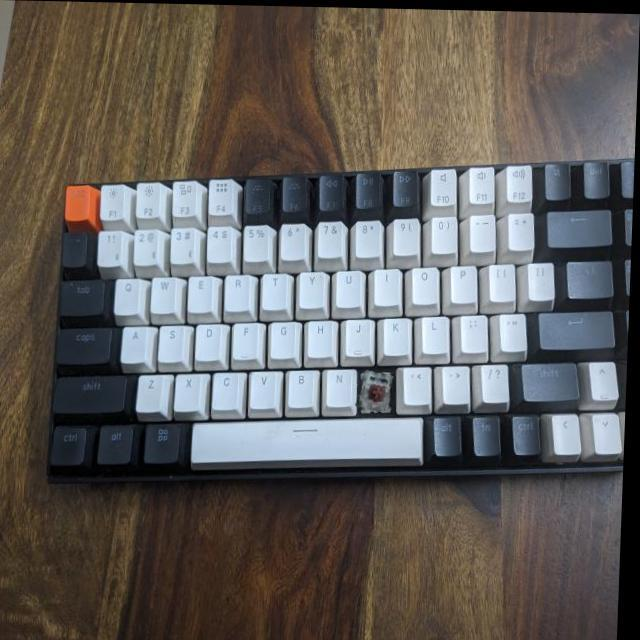key-switch: (361, 370, 395, 411)
